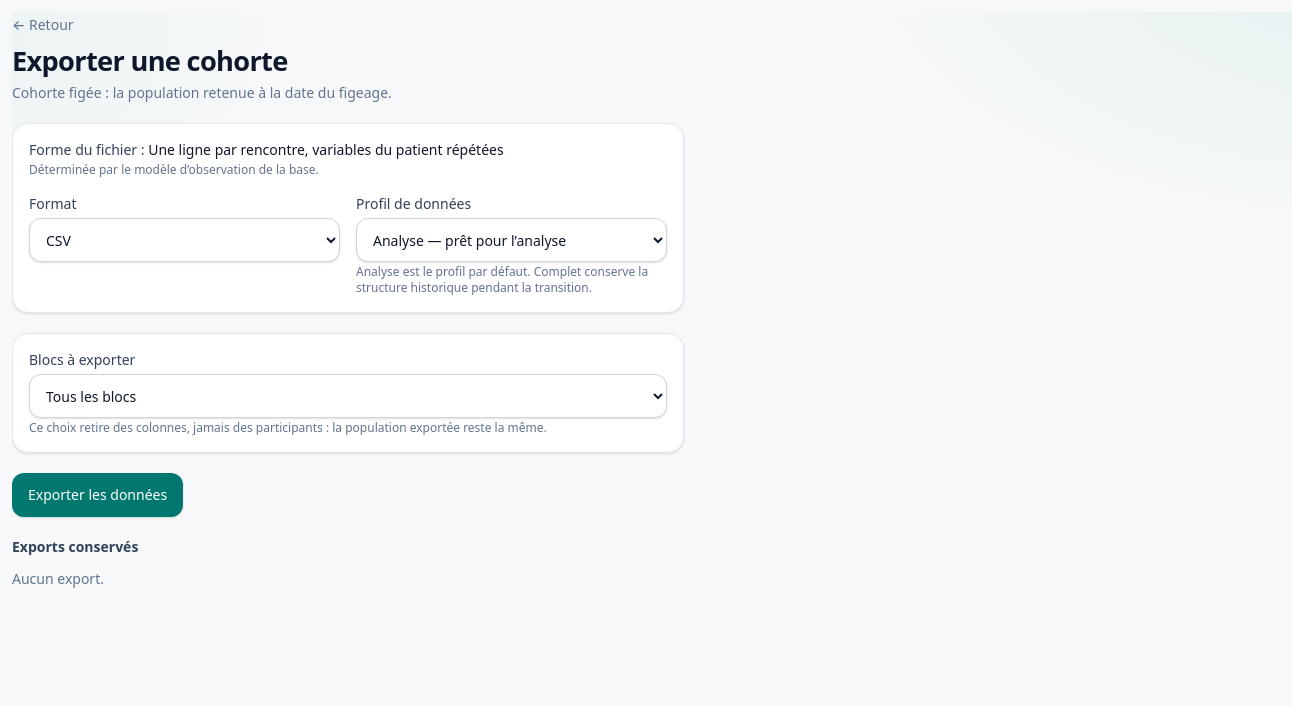
Scenario: ExportPanel › etat d execution et bilan (UX-15) › un echec de generation reste pres de l action et se relance
The width and height of the screenshot is (1292, 706).
Check: the heading "Exporter une cohorte" is shown, box [12, 42, 288, 79]
What coordinates should you click on to do the following:
click the button "Exporter les données"
I would click on:
 (98, 495)
Its box is [12, 473, 183, 517].
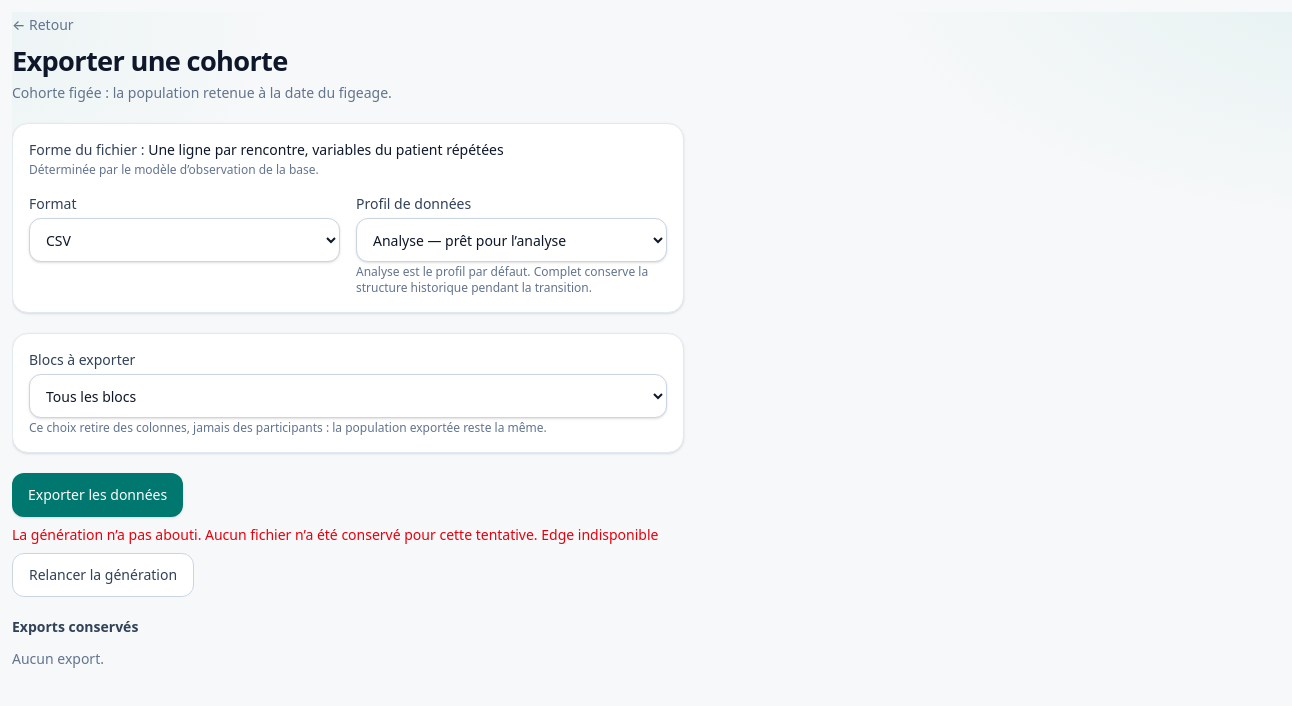
Check: the message shows "La génération n’a pas abouti", box [12, 525, 658, 544]
Check: the message shows "Edge indisponible", box [12, 525, 658, 544]
What coordinates should you click on to do the following:
click the button "Relancer la génération"
I would click on:
 (103, 575)
Its box is [12, 553, 194, 597].
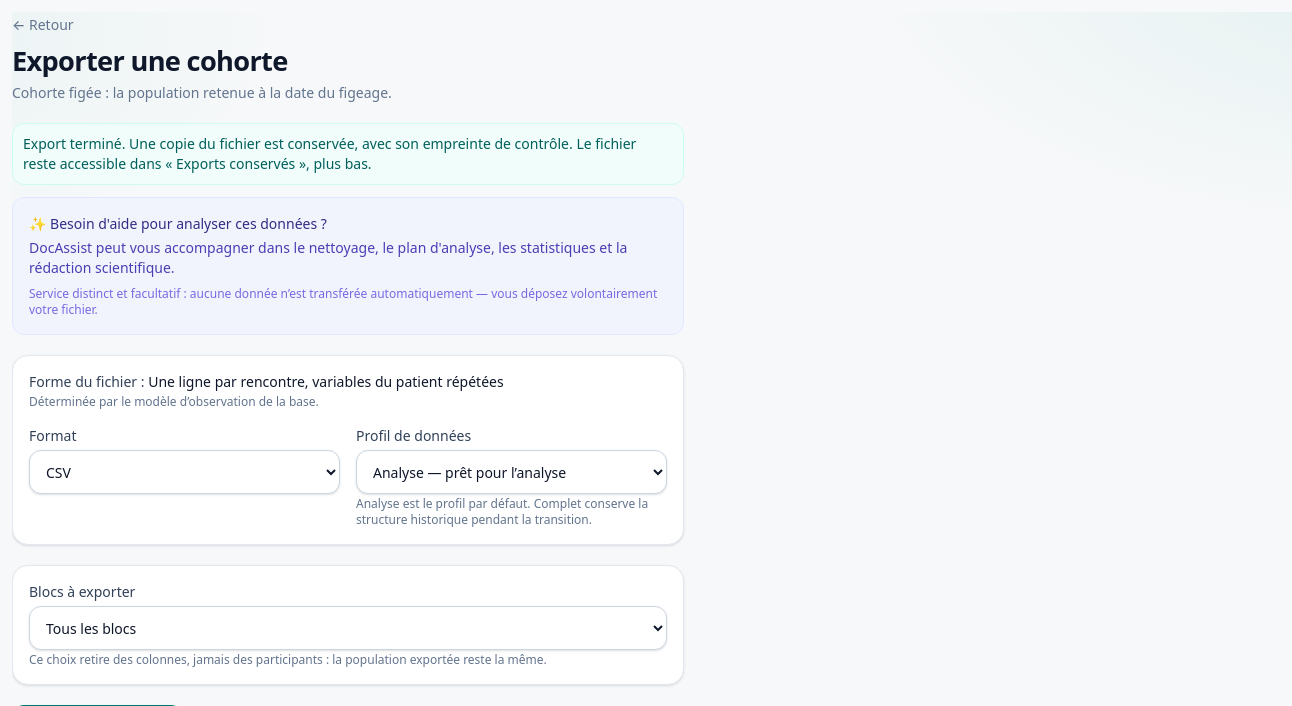
Check: the text "Export terminé" is shown, box [23, 134, 573, 153]
Check: the message is gone
